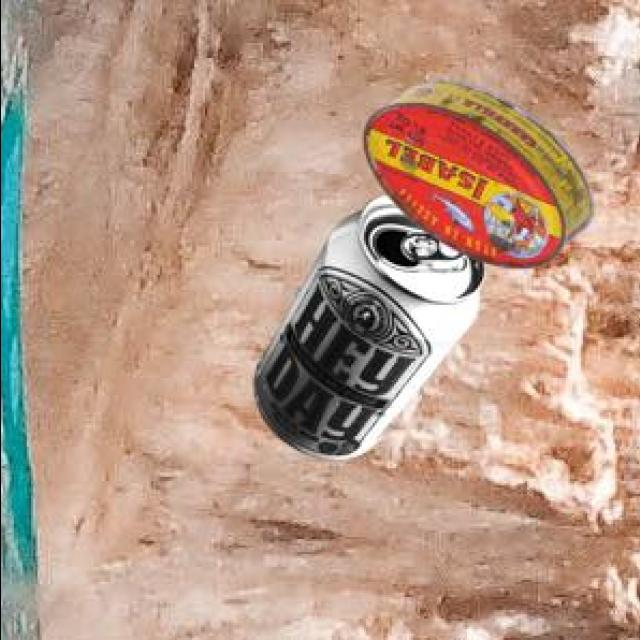logam: (257, 192, 486, 456), (366, 78, 596, 265)
